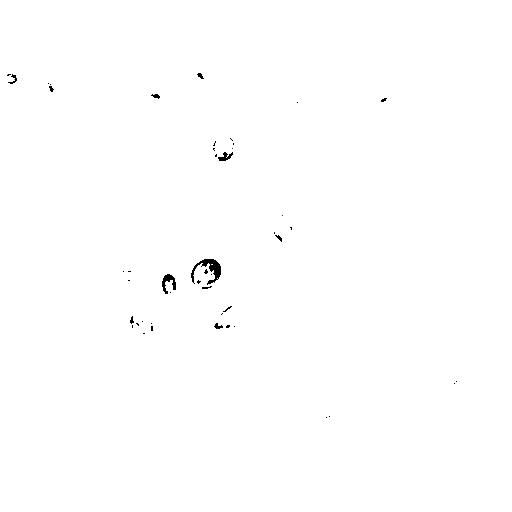micro-algae: (362, 85, 399, 124), (191, 257, 223, 290), (34, 70, 64, 100), (268, 213, 295, 242), (280, 86, 311, 111), (214, 132, 235, 161), (2, 72, 18, 84), (196, 70, 206, 80)
